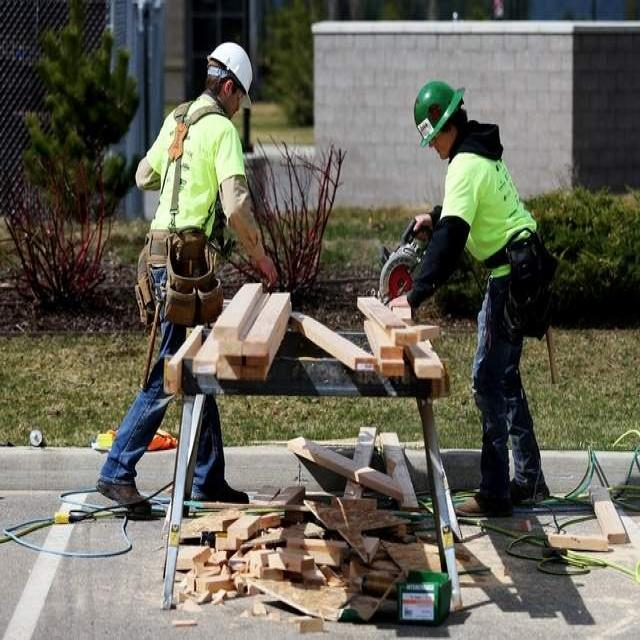helmet: (412, 104, 468, 213), (206, 52, 255, 161)
